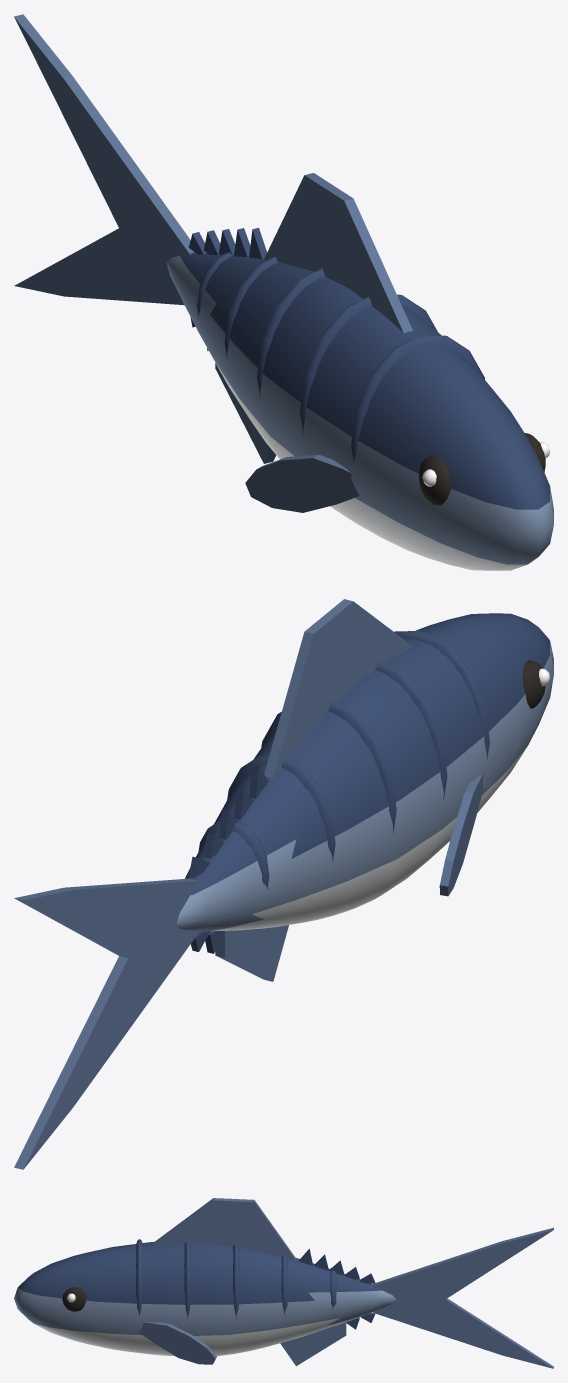
File: fish-skipjack.glb
3 renders of one model, top to bottom at view 1: azimuth 30°, elevation 25°; view 2: azimuth 150°, elevation 25°; view 3: azimuth 270°, elevation 25°, orthographic. The views are drawn at different scales.
Parts seen in each view (by area): view 1: fish; view 2: fish; view 3: fish.
Boxes of the visible parts, <box> form: fish: <box>14,14,553,570</box>; fish: <box>14,599,553,1169</box>; fish: <box>14,1198,553,1368</box>.
Bounding box in the file's own units: 0.1297 × 0.1995 × 0.5792.
